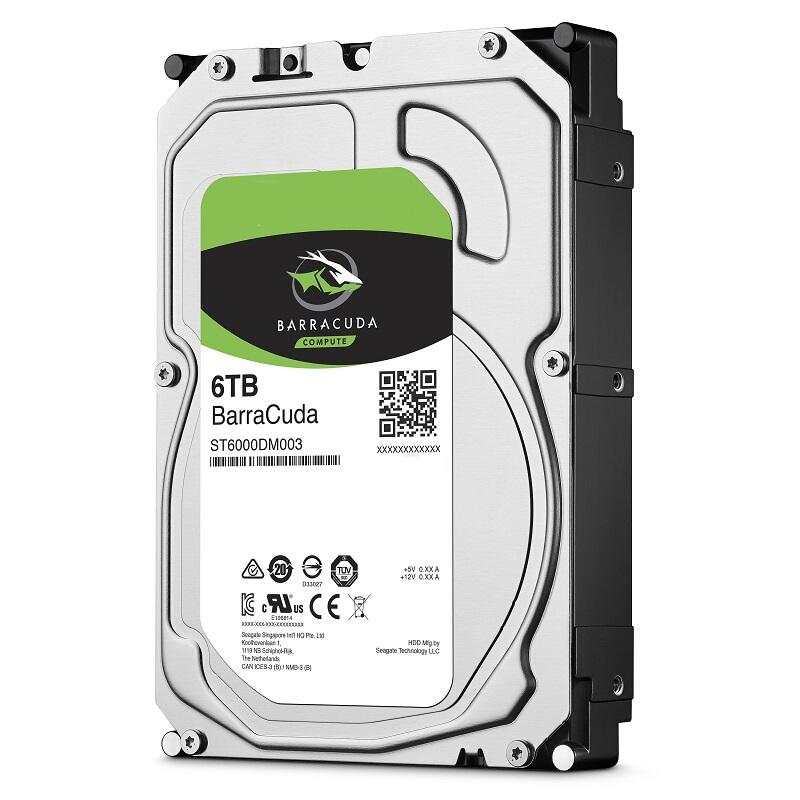internal HDD: (149, 21, 636, 772)
